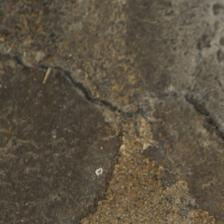Crack: (44, 46, 180, 99), (5, 34, 117, 94), (13, 34, 125, 93)
